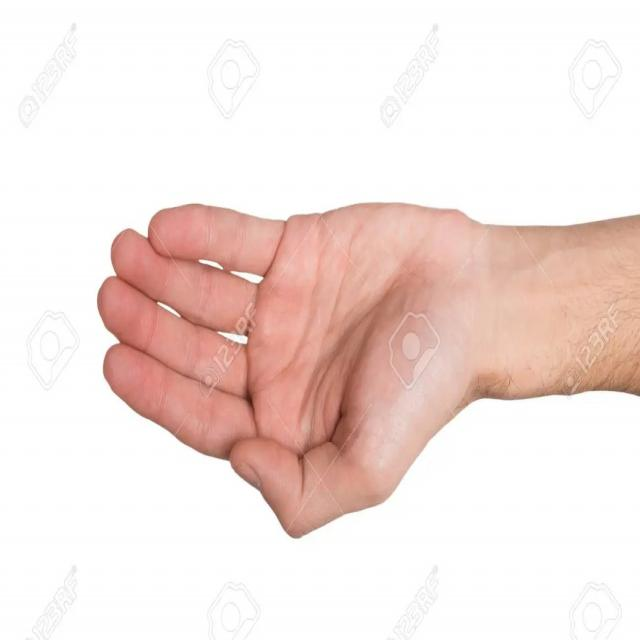bare_hand: (97, 202, 494, 539)
